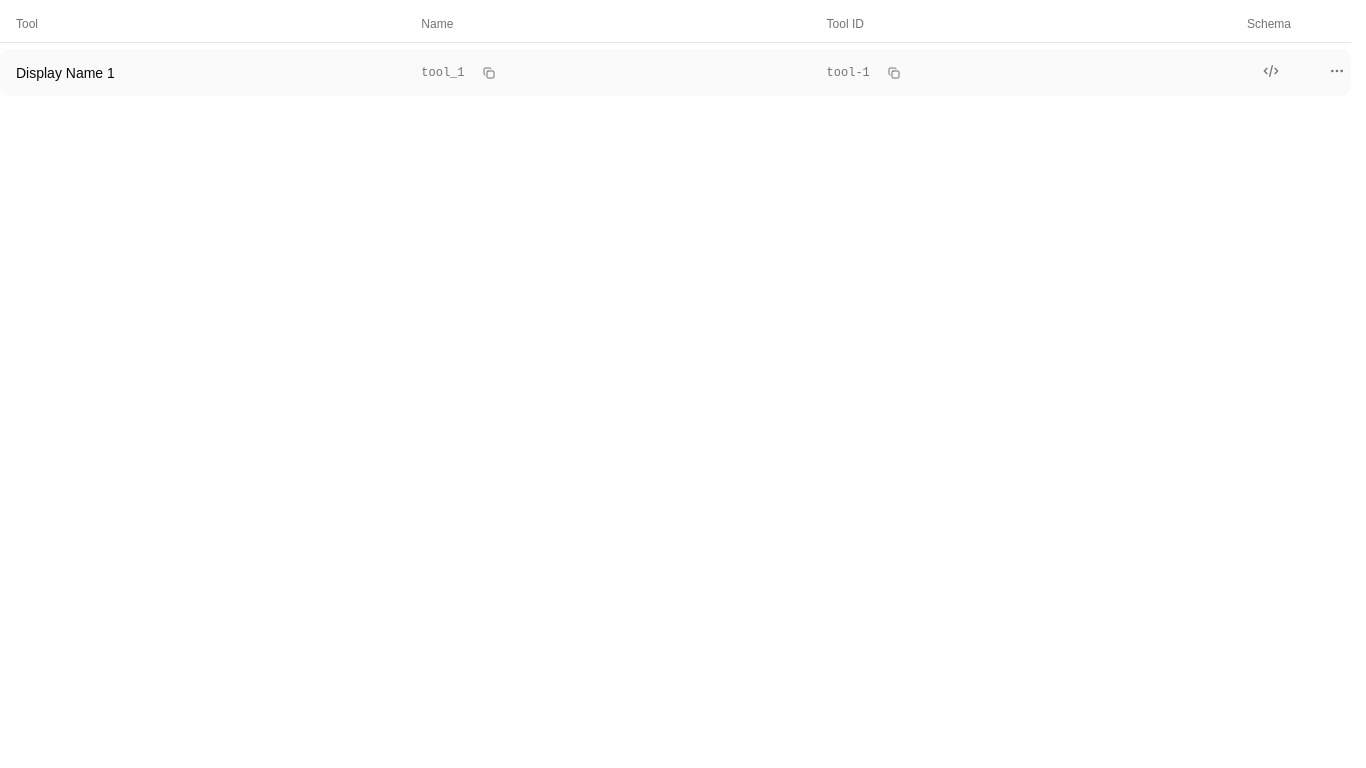
it: ToolsTable › opens schema dialog when schema button is clicked
Click the button named "View schema".
click(1271, 71)  # box [1261,61,1281,81]
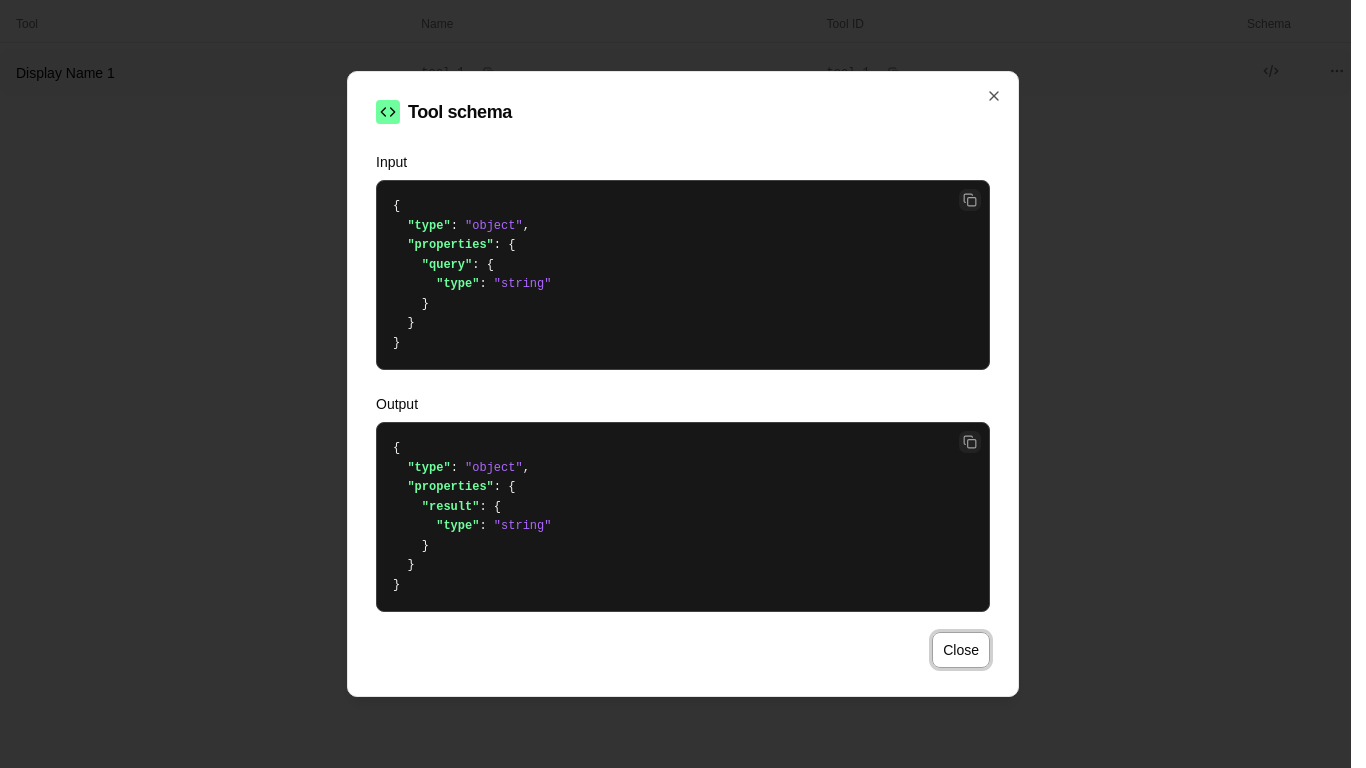
Result: the dialog is shown at [347,71,1019,697]
Result: the heading "Tool schema" is shown at [408,103,512,121]
